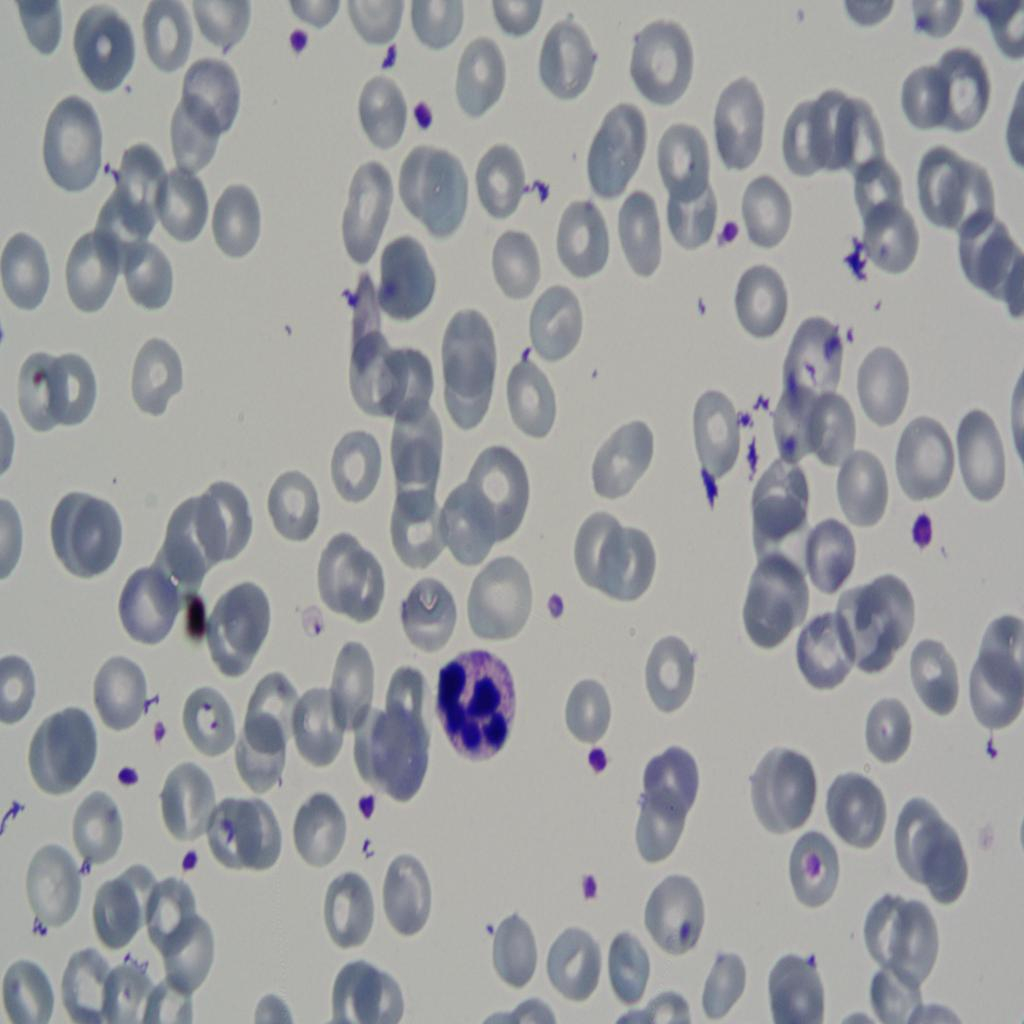Neutrofil: (434, 624, 522, 780)
Platelet: (577, 863, 617, 916), (541, 581, 571, 637), (585, 728, 612, 787), (178, 842, 205, 899), (110, 756, 145, 798), (911, 504, 938, 554), (280, 22, 320, 55), (354, 786, 383, 830), (148, 717, 178, 753), (380, 30, 400, 78), (716, 219, 736, 251), (410, 104, 430, 132)
